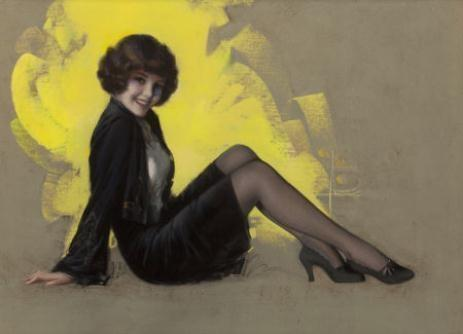person: (29, 37, 424, 288)
